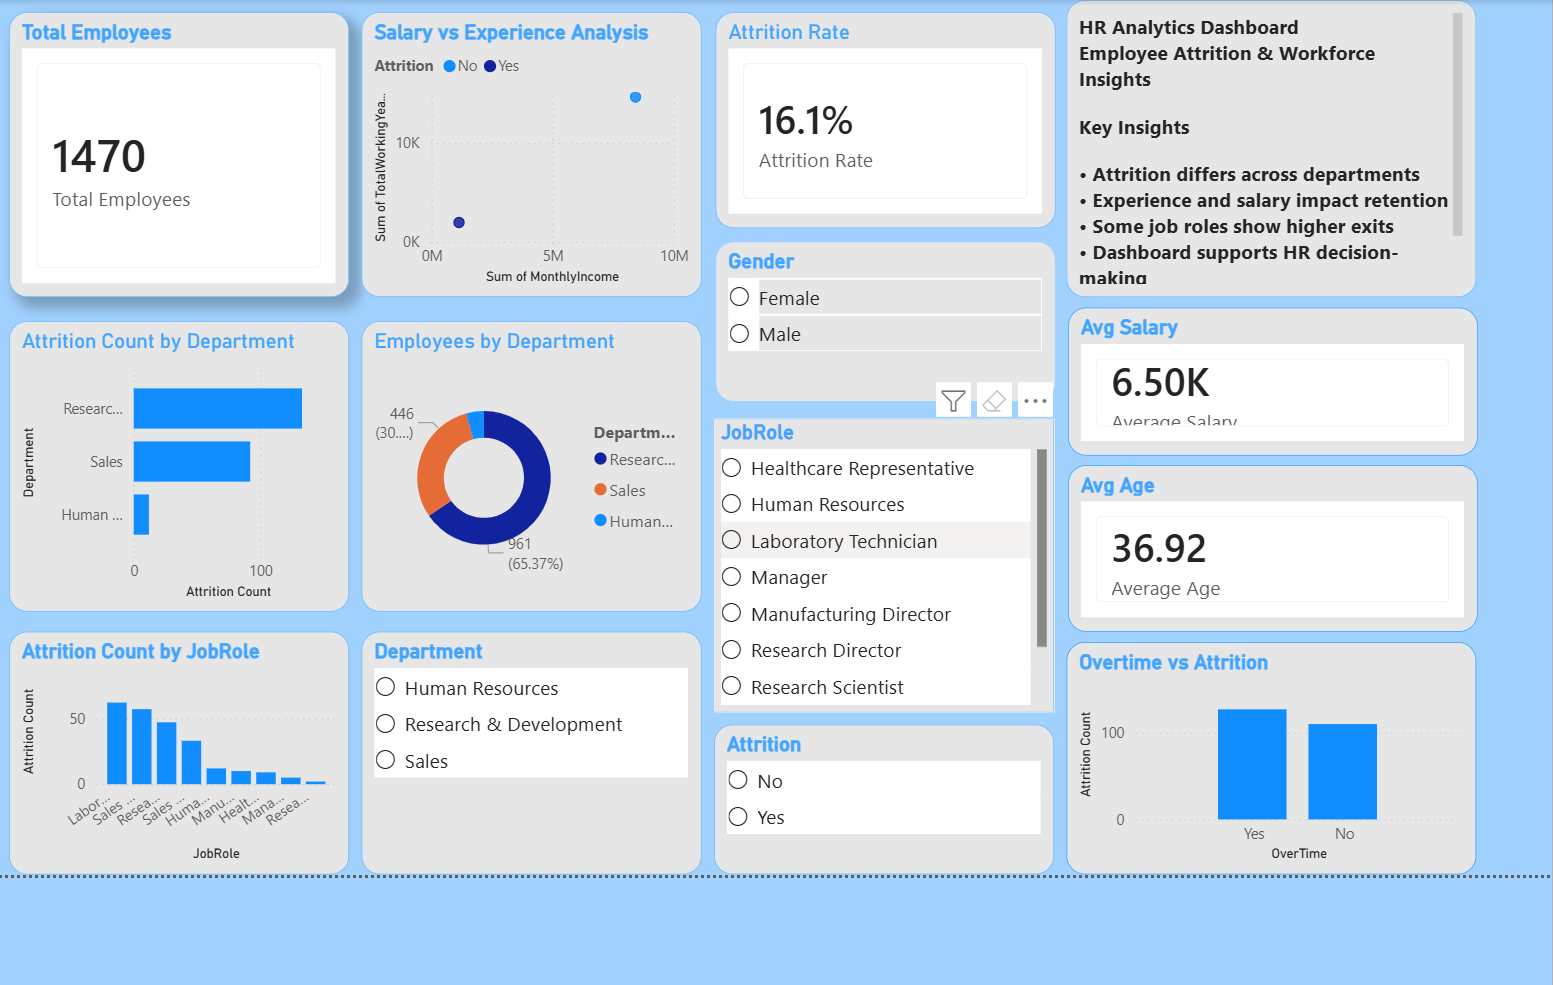

This screenshot's page, from the dashboard's own definition file:
{"tool":"powerbi","page":{"name":"Page 1","canvas":[1280,720],"ordinal":0},"visuals":[{"type":"cardVisual","title":"Total Employees","fields":{"Data":["WA_Fn-UseC_-HR-Employee-Attrition.Total Employees"]},"box":[9.9,0,280.3,244.5],"z":0},{"type":"clusteredBarChart","fields":{"Category":["WA_Fn-UseC_-HR-Employee-Attrition.Department"],"Y":["WA_Fn-UseC_-HR-Employee-Attrition.Attrition Count"]},"box":[9.9,264.2,280.3,239.5],"z":1000},{"type":"hundredPercentStackedColumnChart","fields":{"Category":["WA_Fn-UseC_-HR-Employee-Attrition.JobRole"],"Y":["WA_Fn-UseC_-HR-Employee-Attrition.Attrition Count"]},"box":[9.9,519.8,280.3,200],"z":2000},{"type":"scatterChart","title":"Salary vs Experience Analysis","fields":{"X":["Sum(WA_Fn-UseC_-HR-Employee-Attrition.MonthlyIncome)"],"Y":["Sum(WA_Fn-UseC_-HR-Employee-Attrition.TotalWorkingYears)"],"Series":["WA_Fn-UseC_-HR-Employee-Attrition.Attrition"]},"box":[300,0,280.3,244.5],"z":3000},{"type":"donutChart","title":"Employees by Department","fields":{"Category":["WA_Fn-UseC_-HR-Employee-Attrition.Department"],"Y":["WA_Fn-UseC_-HR-Employee-Attrition.Total Employees"]},"box":[300,264.2,280.3,239.5],"z":4000},{"type":"listSlicer","fields":{"Values":["WA_Fn-UseC_-HR-Employee-Attrition.Department"]},"box":[300,519.8,280.3,200],"z":5000},{"type":"listSlicer","fields":{"Values":["WA_Fn-UseC_-HR-Employee-Attrition.Gender"]},"box":[590.2,0,280.3,244.5],"z":6000},{"type":"listSlicer","fields":{"Values":["WA_Fn-UseC_-HR-Employee-Attrition.JobRole"]},"box":[590.2,264.2,280.3,255.6],"z":7000},{"type":"listSlicer","fields":{"Values":["WA_Fn-UseC_-HR-Employee-Attrition.Attrition"]},"box":[590.2,519.8,280.3,200],"z":8000},{"type":"textbox","box":[880.4,0,337.1,244.5],"z":9000}]}

Visuals, with their boxes on the page's 1280x720 design canvas (x1, y1, x2, y2). These are canvas units, not pixel positions in the 1553x985 screenshot, which may show the page scaled, cropped or inside an application window:
"Total Employees" cardVisual: bbox(10, 0, 290, 244)
clusteredBarChart - WA_Fn-UseC_-HR-Employee-Attrition.Department x WA_Fn-UseC_-HR-Employee-Attrition.Attrition Count: bbox(10, 264, 290, 504)
hundredPercentStackedColumnChart - WA_Fn-UseC_-HR-Employee-Attrition.JobRole x WA_Fn-UseC_-HR-Employee-Attrition.Attrition Count: bbox(10, 520, 290, 720)
"Salary vs Experience Analysis" scatterChart: bbox(300, 0, 580, 244)
"Employees by Department" donutChart: bbox(300, 264, 580, 504)
listSlicer - WA_Fn-UseC_-HR-Employee-Attrition.Department: bbox(300, 520, 580, 720)
listSlicer - WA_Fn-UseC_-HR-Employee-Attrition.Gender: bbox(590, 0, 870, 244)
listSlicer - WA_Fn-UseC_-HR-Employee-Attrition.JobRole: bbox(590, 264, 870, 520)
listSlicer - WA_Fn-UseC_-HR-Employee-Attrition.Attrition: bbox(590, 520, 870, 720)
textbox: bbox(880, 0, 1218, 244)
